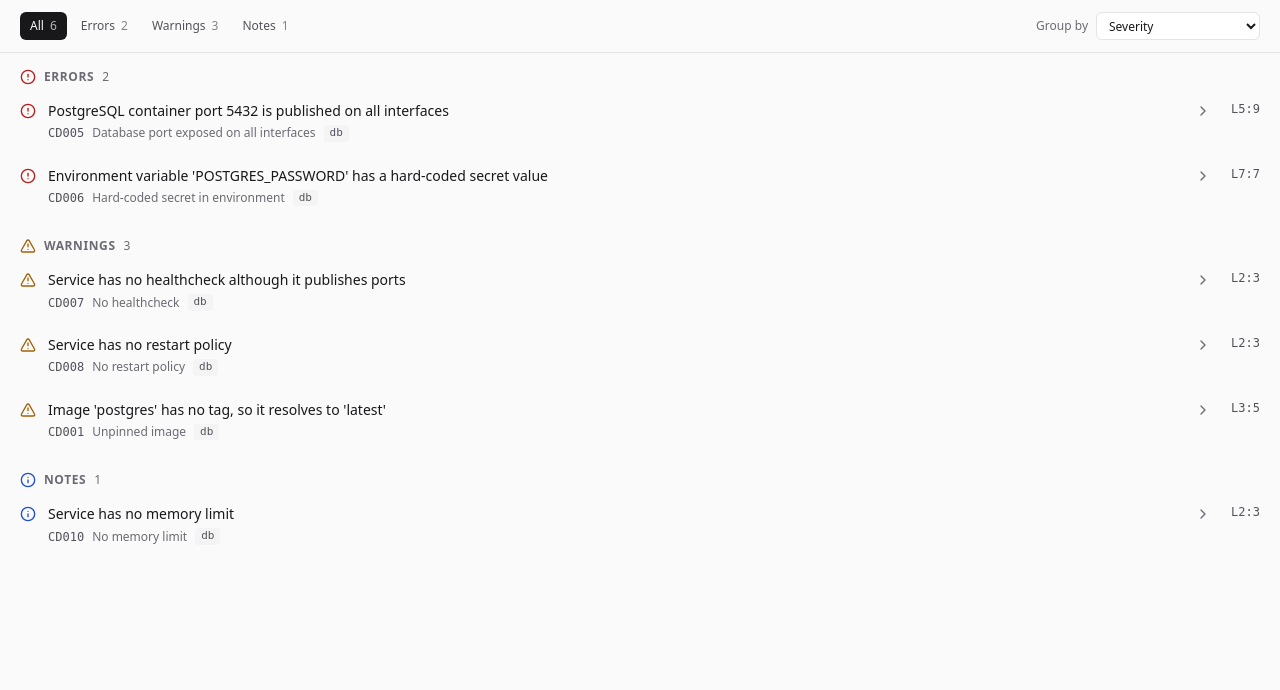
it: FindingsList › expands a finding to show why it matters and how to fix it
Click the button "PostgreSQL container port 5432": click(248, 110) [12,89,1219,154]
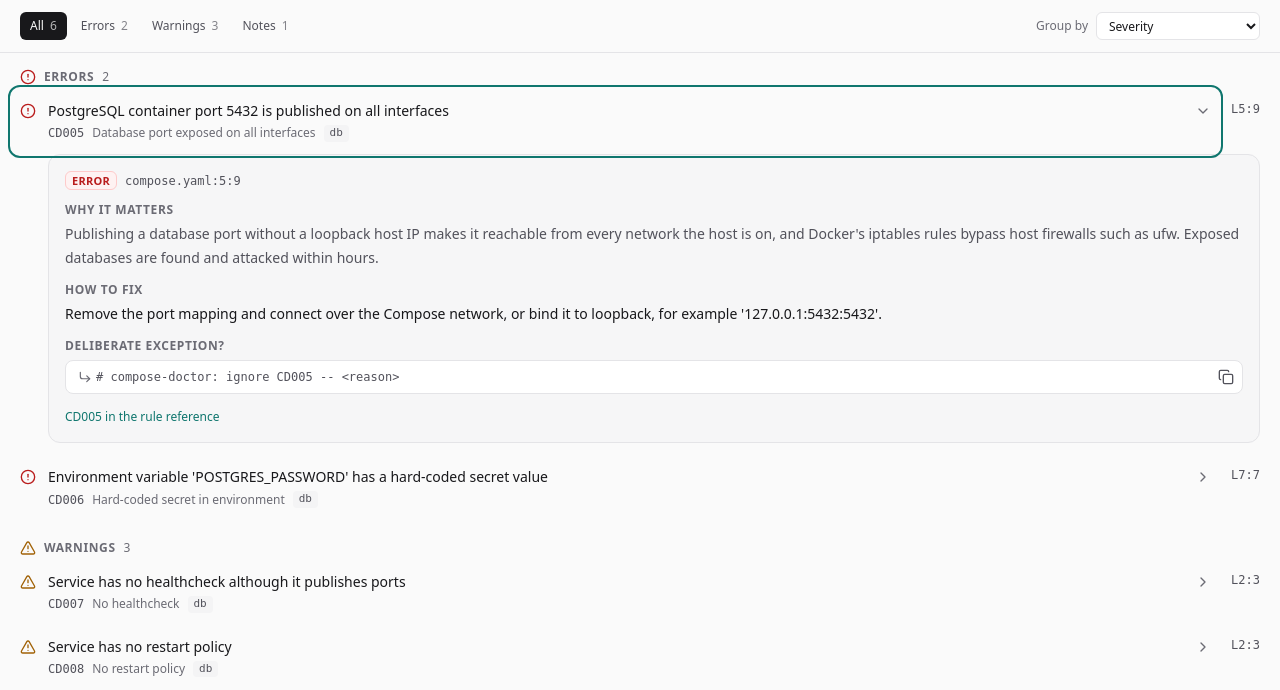
Now the button "PostgreSQL container port 5432" is expanded, box [12,89,1219,154]
Now the text "Publishing a database port without a loopback host IP makes it reachable from every network the host is on, and Docker's" is shown, box [65,224,1239,267]
Now the text "# compose-doctor: ignore CD005 -- <reason>" is shown, box [96,370,399,384]
